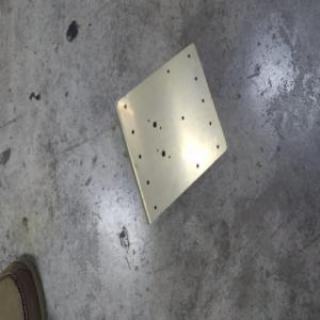MetalSheettrack_idkeyframe: (111, 40, 227, 226)
